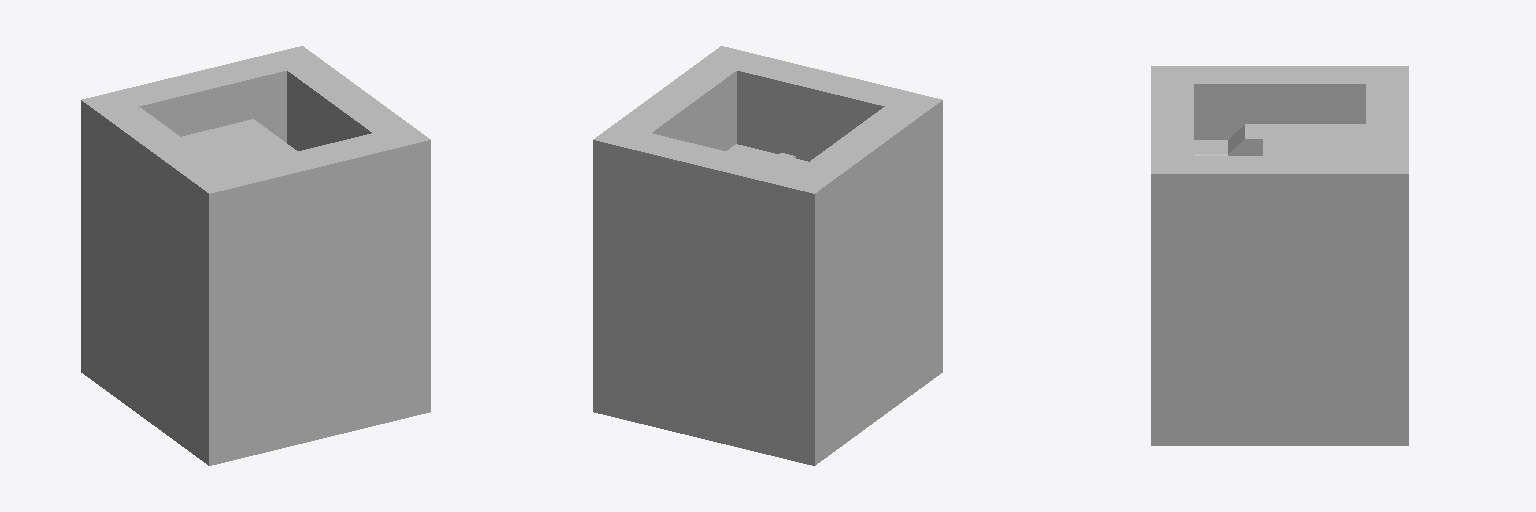
Rendered from level 4.obj.
The picture shows the model from 3 angles: view 1: azimuth 30°, elevation 25°; view 2: azimuth 150°, elevation 25°; view 3: azimuth 270°, elevation 25°; orthographic projection.
Visible parts, largest first — view 1: Cube.002, Cube; view 2: Cube.002, Cube; view 3: Cube.002, Cube.
Part boxes in pixels (left/top/right/bottom): Cube.002: left=81, top=46, right=430, bottom=465; Cube: left=182, top=119, right=297, bottom=168; Cube.002: left=593, top=46, right=942, bottom=465; Cube: left=726, top=144, right=807, bottom=168; Cube.002: left=1151, top=66, right=1408, bottom=445; Cube: left=1194, top=124, right=1365, bottom=155.
Bounding box in the file's own units: 240 × 282 × 241.